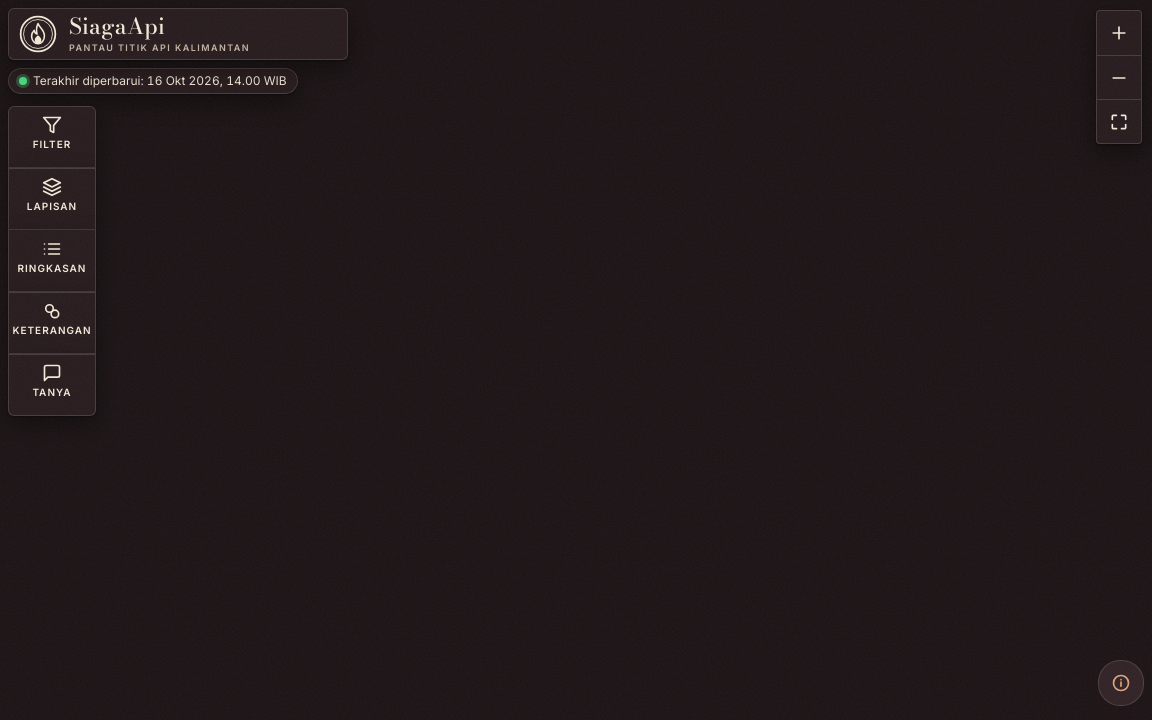
Test: a question is sent to the server and the answer appears under it
Click the button "Tanya" at point(52, 385), box [9,363,95,407]
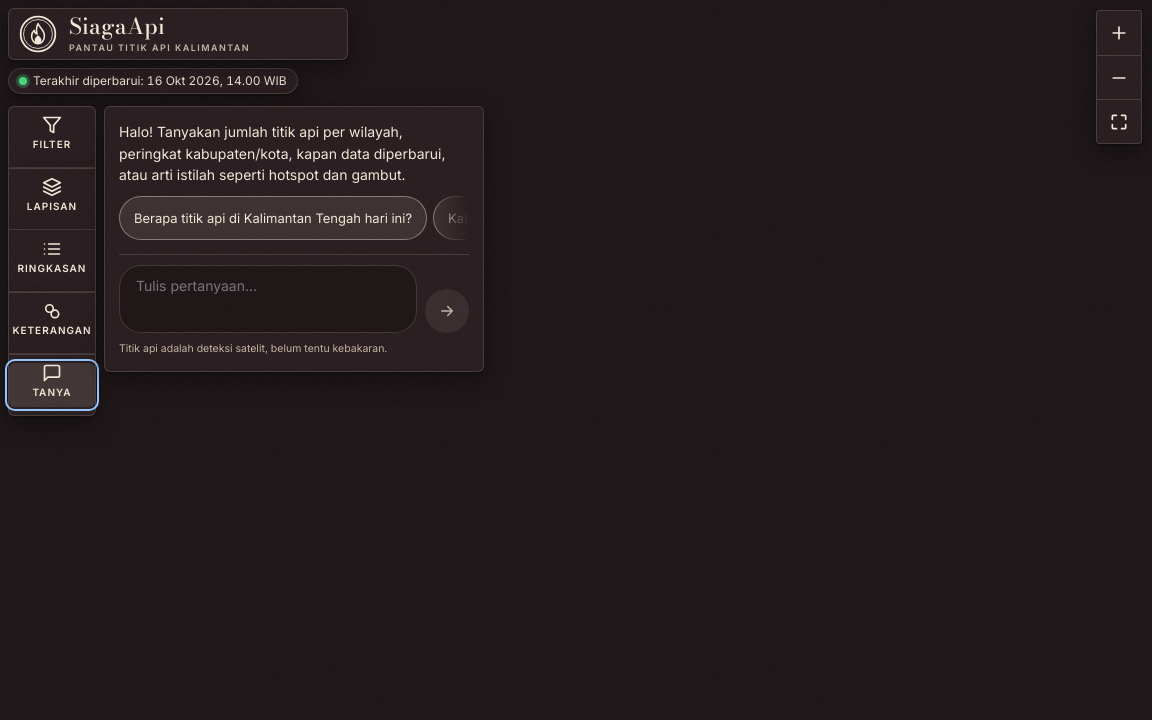
Type "Berapa titik api di Kalteng?" into the text box labelled "pertanyaan" at point(268, 299), box [119,265,417,333]
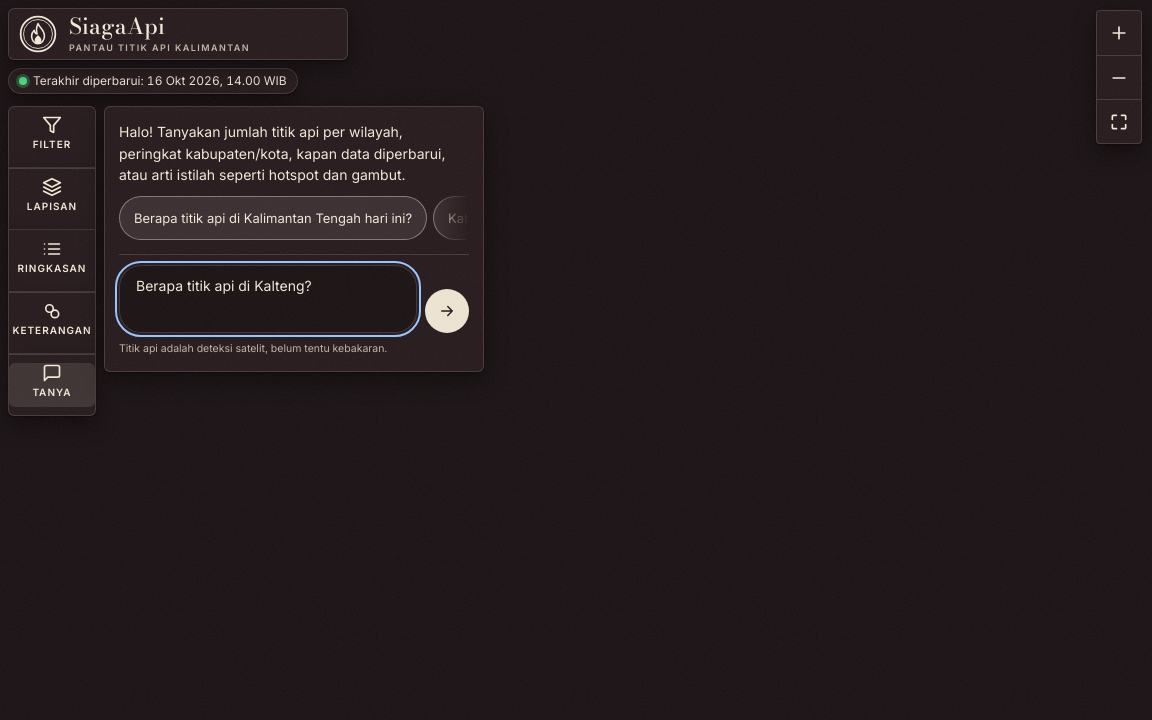
Click the button named "Kirim" at point(447, 311), box [425,289,469,333]
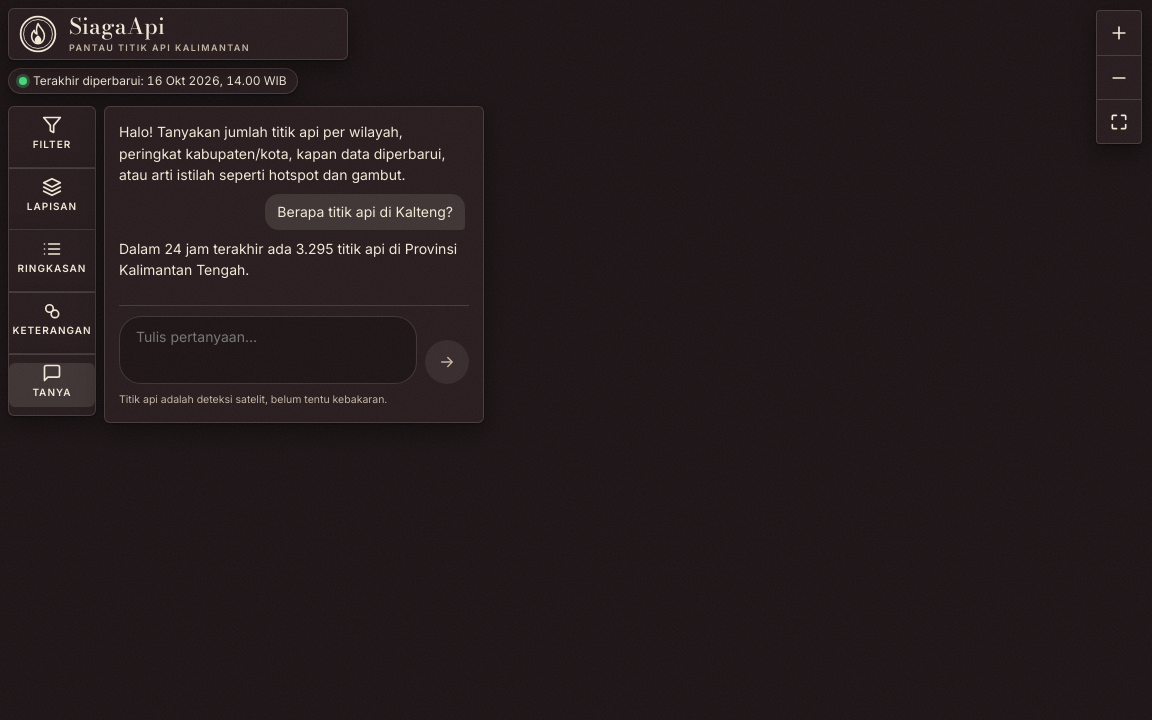
Check: the text "3.295 titik api" is shown, box [119,240,457,278]
Check: the text "Berapa titik api di Kalteng?" is shown, box [265,194,465,230]
